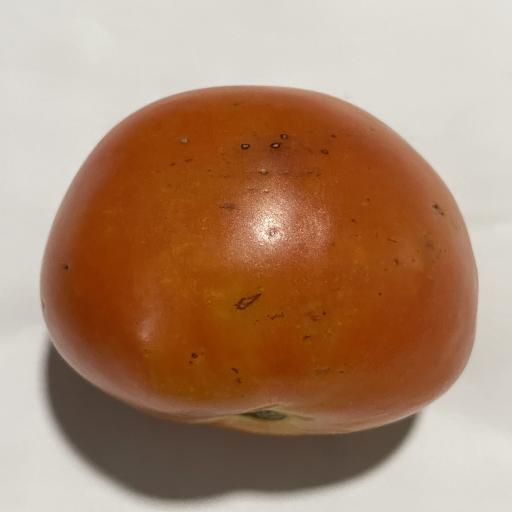ripe: (41, 86, 477, 435)
